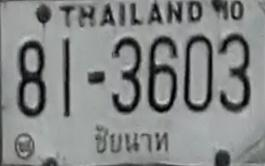0: (182, 33, 213, 112)
1: (61, 37, 71, 117)
3: (218, 32, 250, 112), (110, 36, 142, 113)
6: (146, 34, 178, 112)
8: (17, 40, 46, 118)
CNT: (87, 124, 173, 157)
